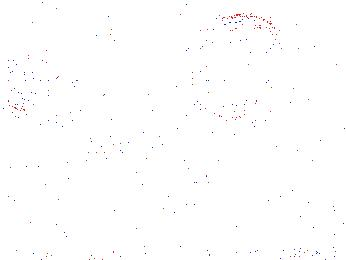moon jellyfish: (186, 15, 285, 118), (29, 1, 116, 78), (1, 58, 43, 111)
